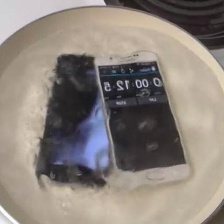phone: (32, 50, 134, 195), (92, 49, 196, 190)
